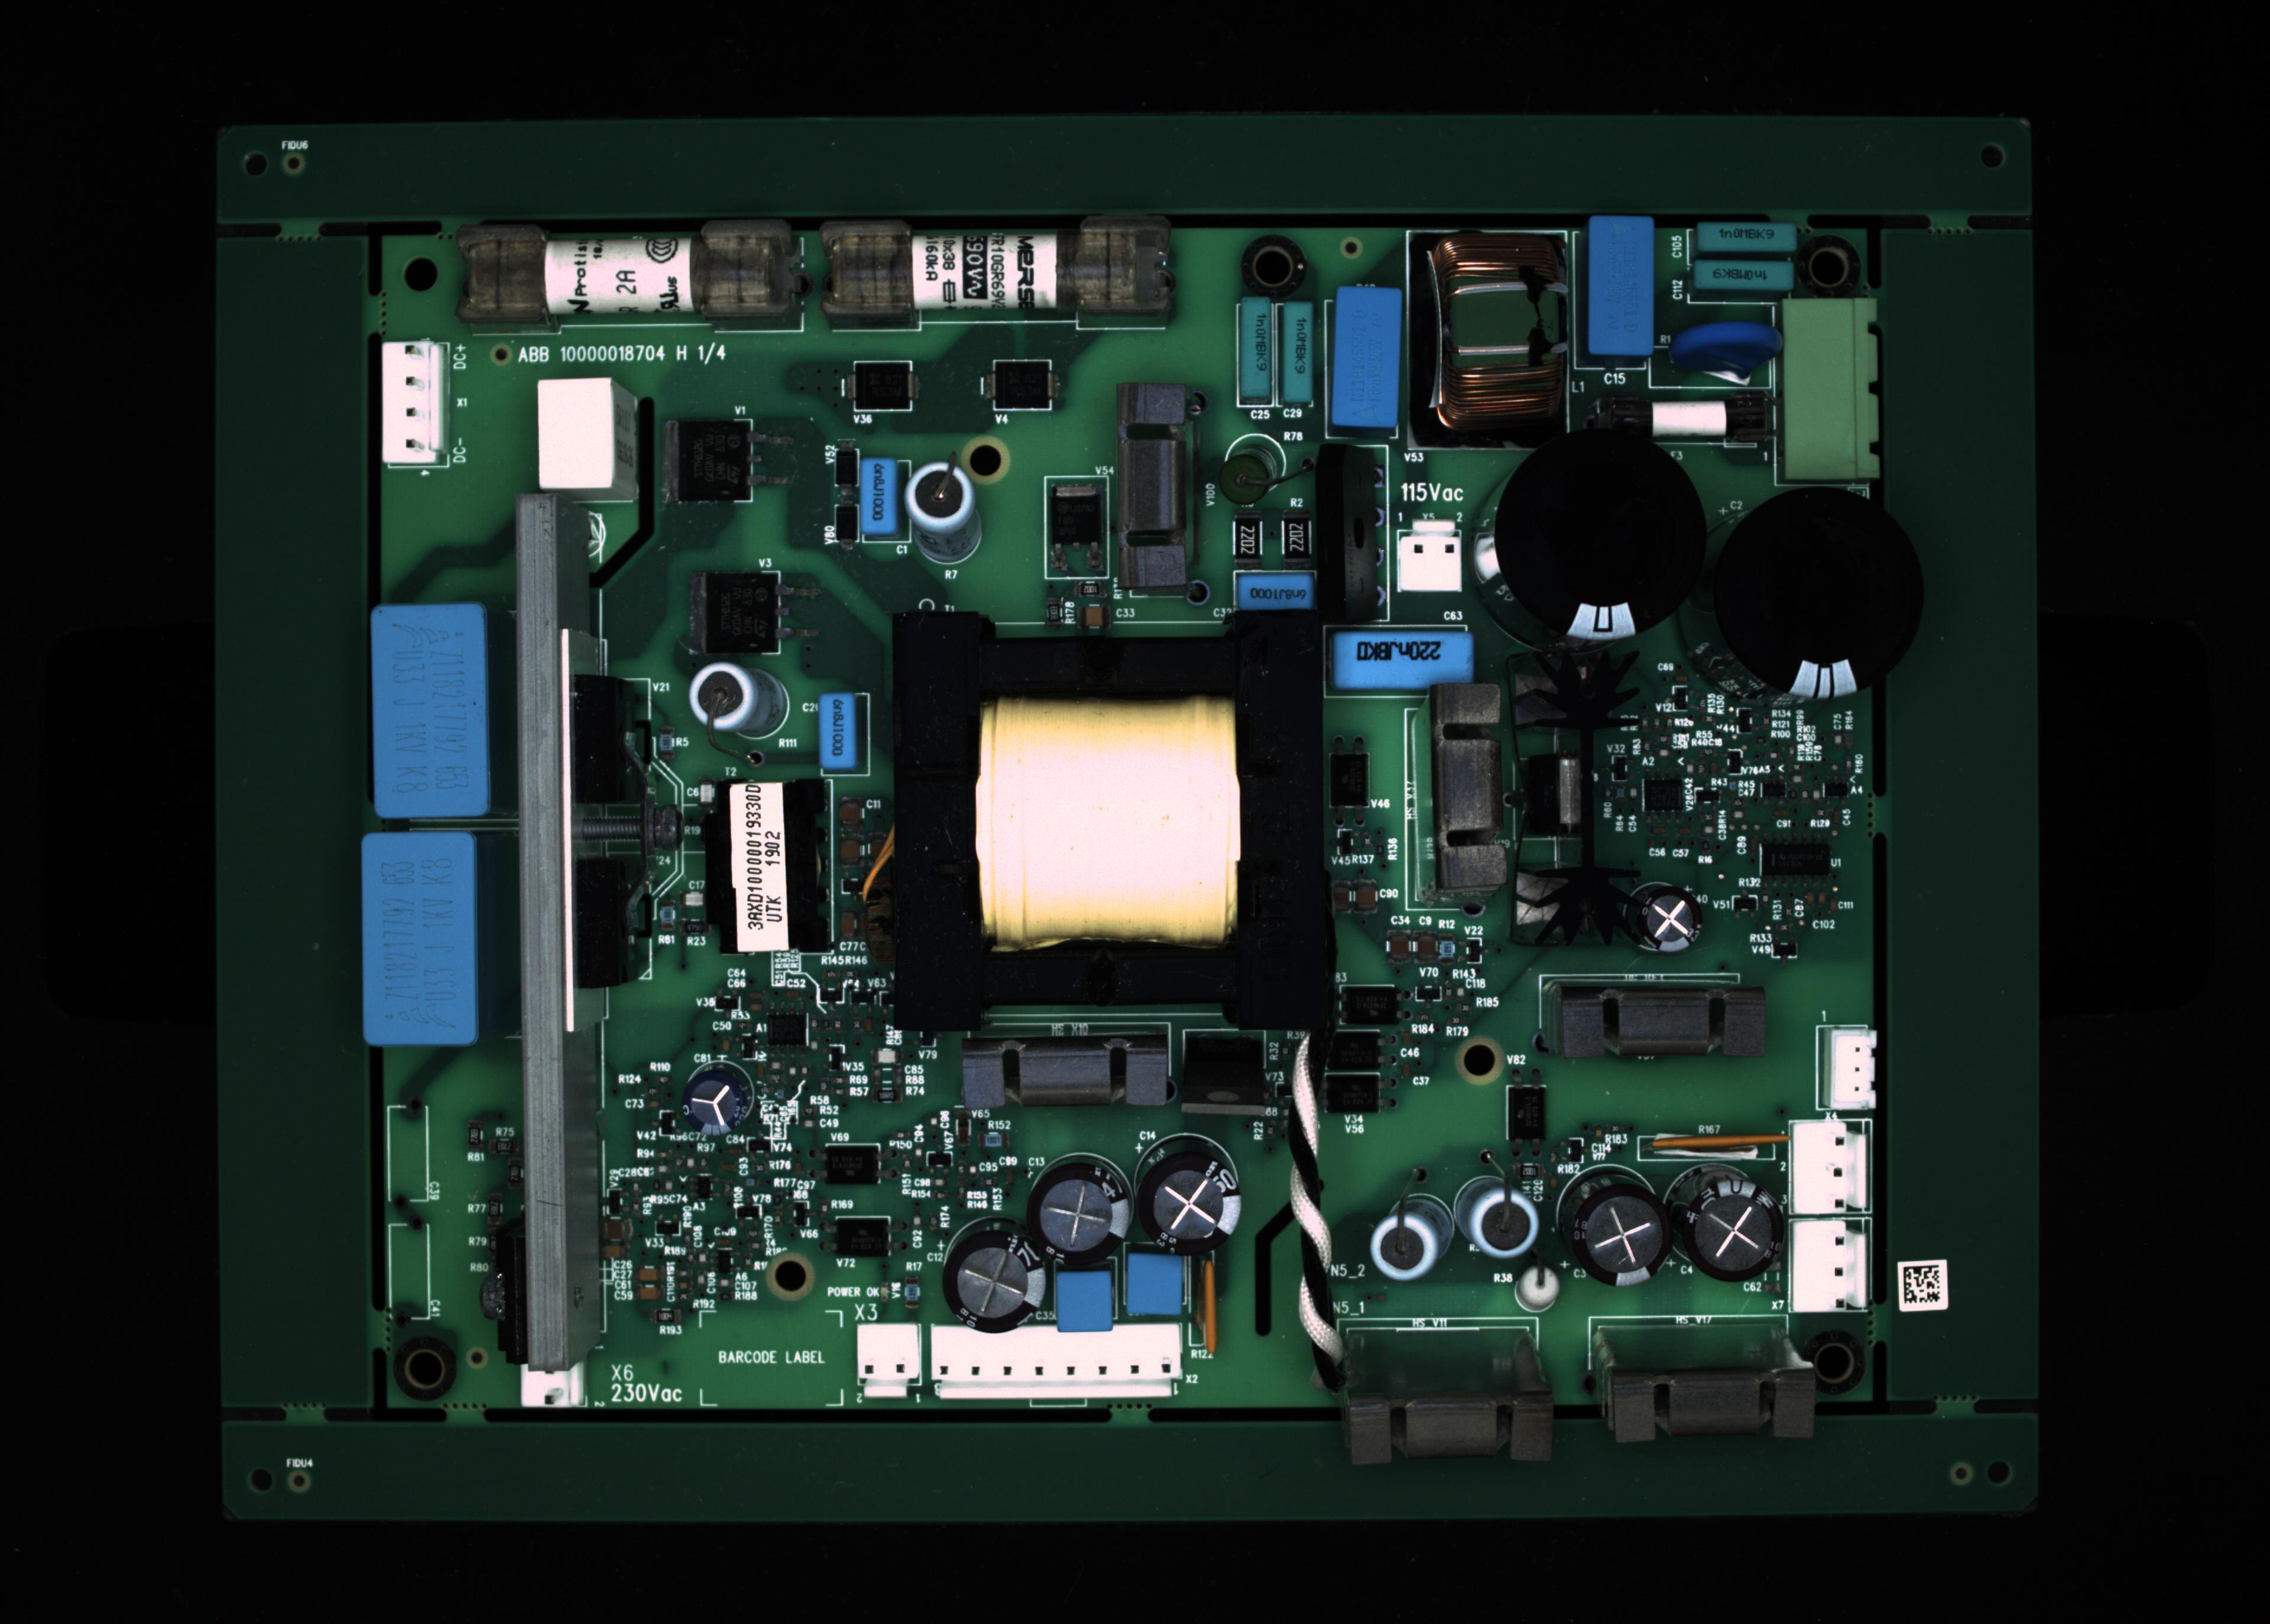10_p: (1648, 346, 1772, 394)
11_q: (1779, 301, 1878, 489)
12_r: (1591, 387, 1776, 455)
13_s: (380, 337, 440, 466)
14_t: (540, 380, 614, 485)
15_e: (856, 452, 897, 533)
16_k: (891, 464, 983, 559)
17_u: (1115, 380, 1194, 603)
18_v: (1234, 569, 1317, 615)
19_w: (1336, 626, 1475, 687)
1_a: (455, 216, 807, 336)
20_f: (1393, 517, 1470, 599)
21_g: (1475, 429, 1709, 670)
22_g: (1681, 482, 1929, 715)
23_h: (371, 603, 487, 816)
24_h: (366, 828, 475, 1046)
25_f: (515, 1360, 591, 1411)
26_f: (851, 1323, 927, 1403)
27_x: (925, 1323, 1185, 1415)
28_i: (1129, 1120, 1241, 1239)
29_i: (1027, 1153, 1134, 1274)
2_a: (819, 216, 1175, 330)
30_i: (941, 1229, 1043, 1334)
31_j: (1055, 1271, 1120, 1332)
32_j: (1124, 1257, 1190, 1316)
33_e: (814, 692, 855, 763)
34_k: (1373, 1181, 1465, 1281)
35_k: (1456, 1178, 1542, 1271)
36_i: (1565, 1181, 1674, 1283)
37_i: (1692, 1176, 1786, 1281)
38_l: (1345, 1397, 1560, 1471)
39_l: (1584, 1367, 1818, 1446)
3_b: (1238, 295, 1270, 404)
40_l: (1542, 977, 1771, 1062)
41_y: (1435, 678, 1507, 905)
42_z: (1818, 1028, 1878, 1114)
43_m: (1792, 1120, 1874, 1216)
44_m: (1788, 1225, 1876, 1311)
45_i: (679, 1065, 756, 1142)
46_n: (1338, 982, 1412, 1028)
47_n: (811, 1142, 899, 1192)
48_n: (818, 1214, 911, 1265)
49_aa: (761, 1011, 814, 1056)
4_b: (1280, 299, 1317, 410)
50_n: (1321, 1030, 1391, 1070)
51_n: (1308, 1070, 1396, 1120)
52_ab: (1329, 740, 1377, 831)
53_ac: (1656, 1130, 1790, 1165)
54_ad: (1194, 1253, 1222, 1364)
55_l: (957, 1021, 1175, 1118)
56_ae: (1176, 1025, 1282, 1132)
57_af: (1509, 647, 1635, 951)
58_i: (1630, 884, 1706, 958)
59_o: (981, 359, 1067, 417)
5_c: (1328, 286, 1400, 424)
60_o: (840, 357, 923, 420)
6_6: (1405, 232, 1572, 452)
7_c: (1588, 218, 1649, 353)
8_d: (1702, 227, 1792, 250)
9_d: (1695, 262, 1793, 292)
